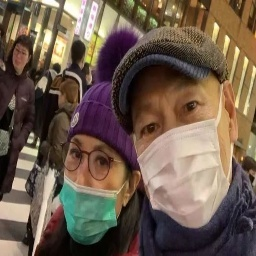correctlyWear: (126, 79, 239, 229), (58, 137, 141, 245)
noWear: (11, 46, 32, 69), (57, 84, 72, 108)
